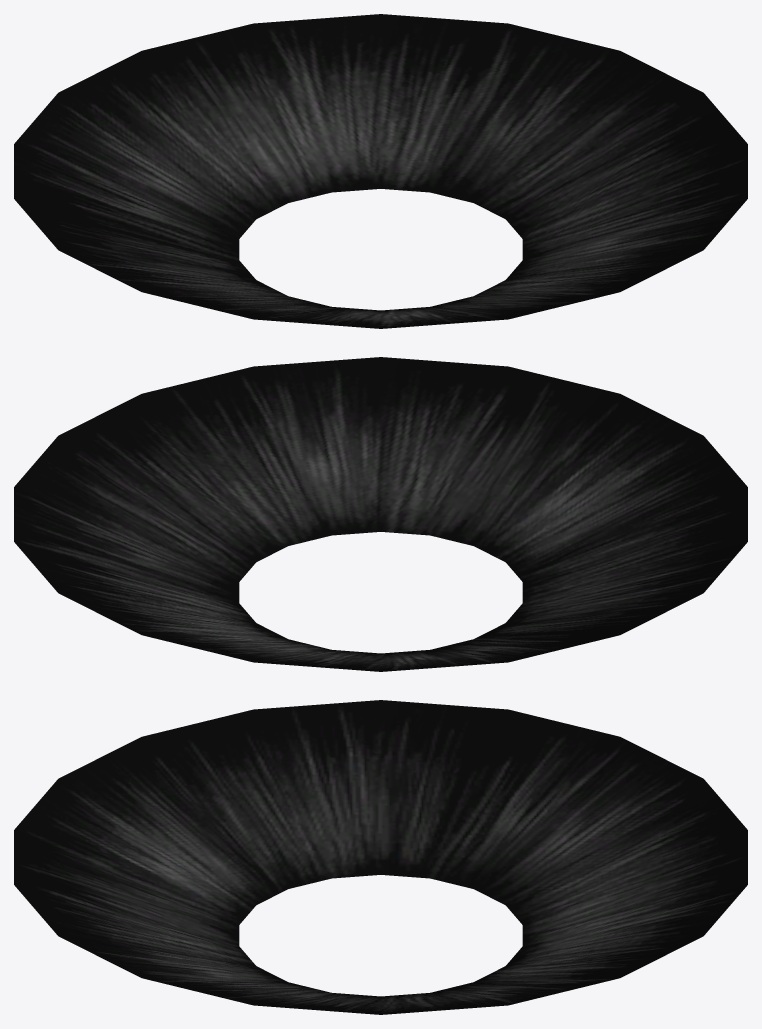
The model's file is jump2.FBX.
3 views of the same model, one above another, from view 1: azimuth 30°, elevation 25°; view 2: azimuth 150°, elevation 25°; view 3: azimuth 270°, elevation 25° (orthographic).
Visible parts, largest first — view 1: jump2; view 2: jump2; view 3: jump2.
Boxes of the visible parts, bbox=[...] form: jump2: bbox=[14, 14, 747, 328]; jump2: bbox=[14, 357, 747, 671]; jump2: bbox=[14, 700, 747, 1014].
Size of the model in its own units: 299 by 34.57 by 294.
Materials: 1 (1 with a texture image).
